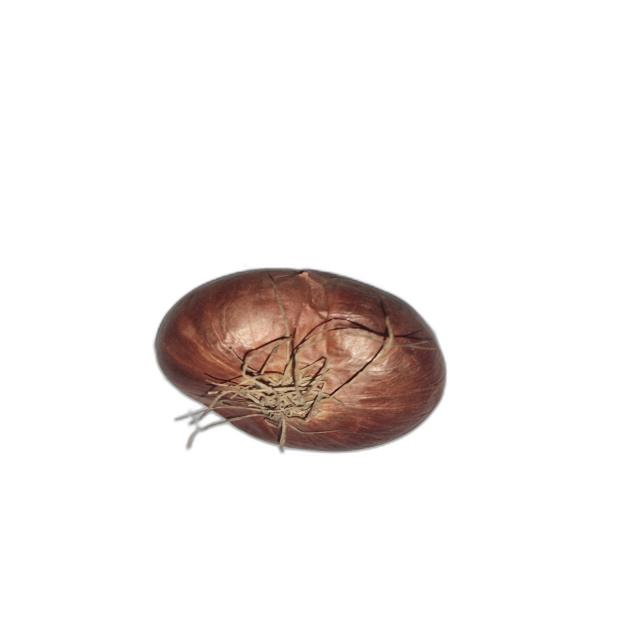onion: (151, 266, 448, 456)
